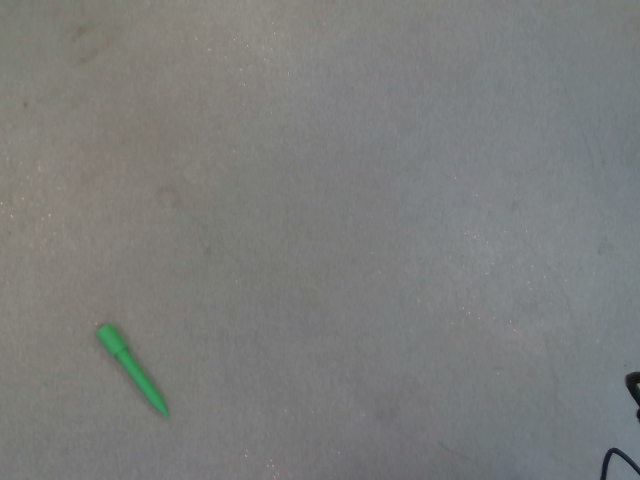Probe: (92, 318, 179, 429)
